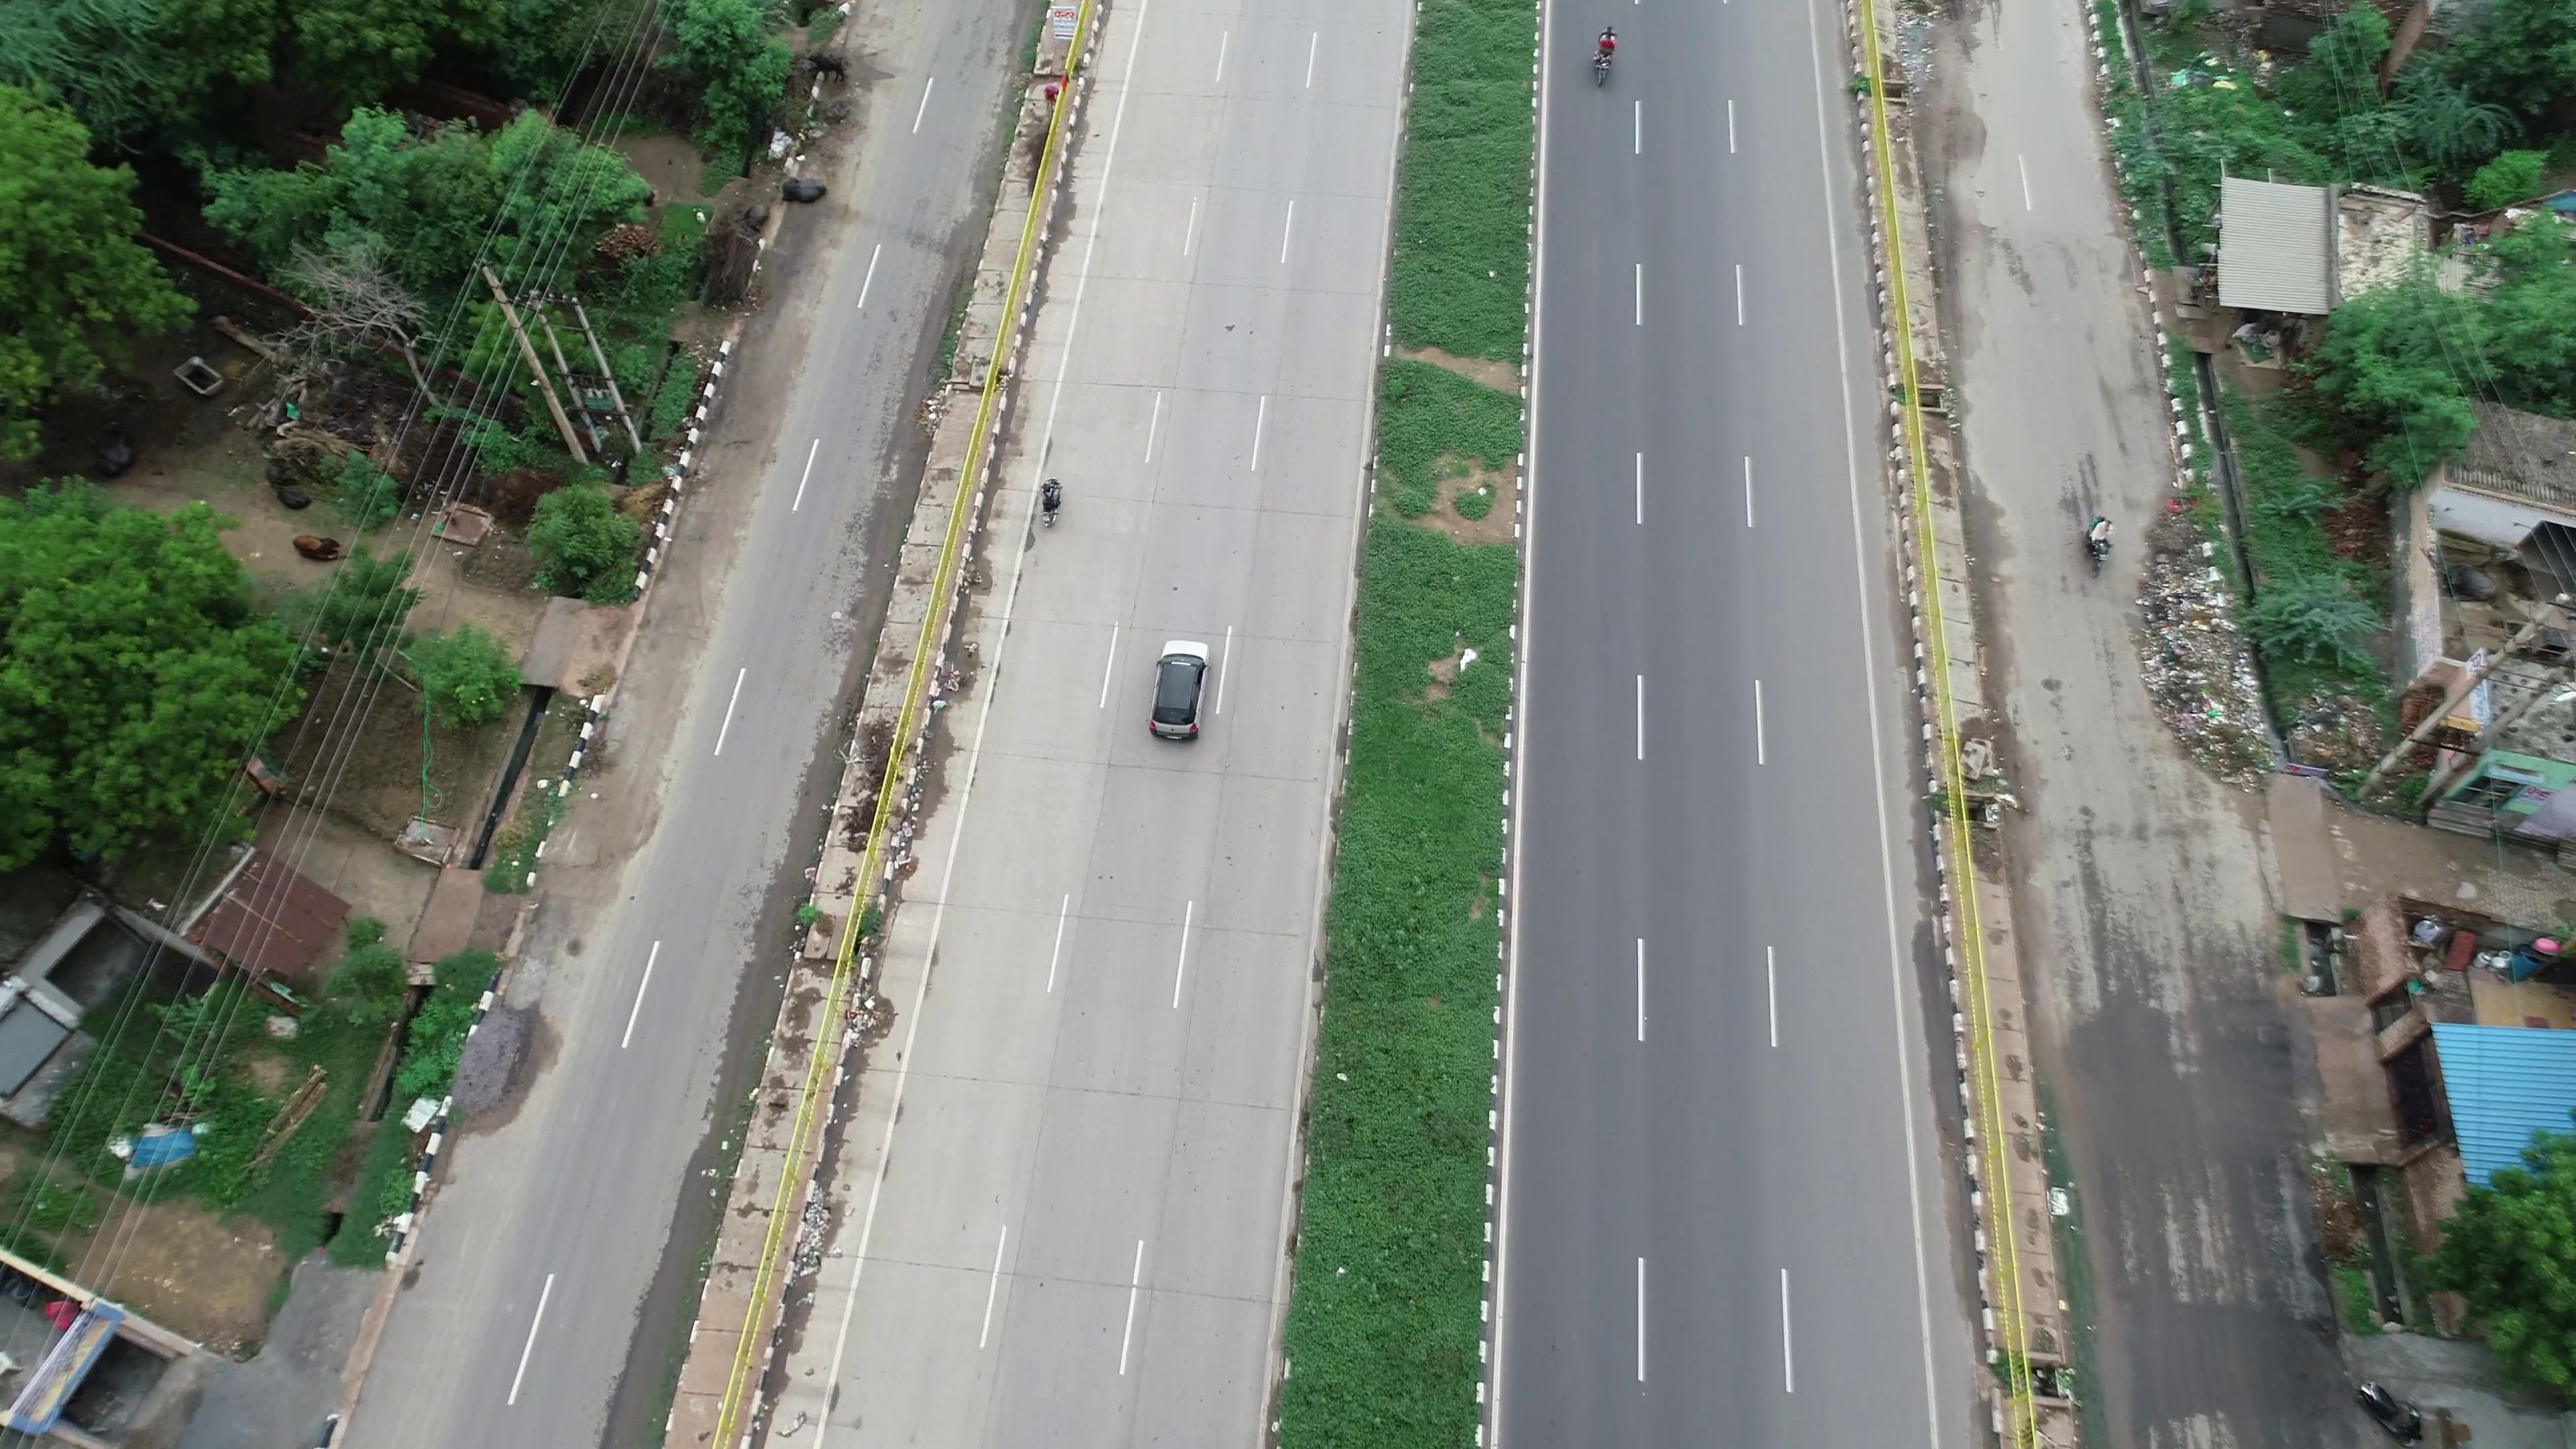Road_side_garbage: (2128, 520, 2275, 784)
